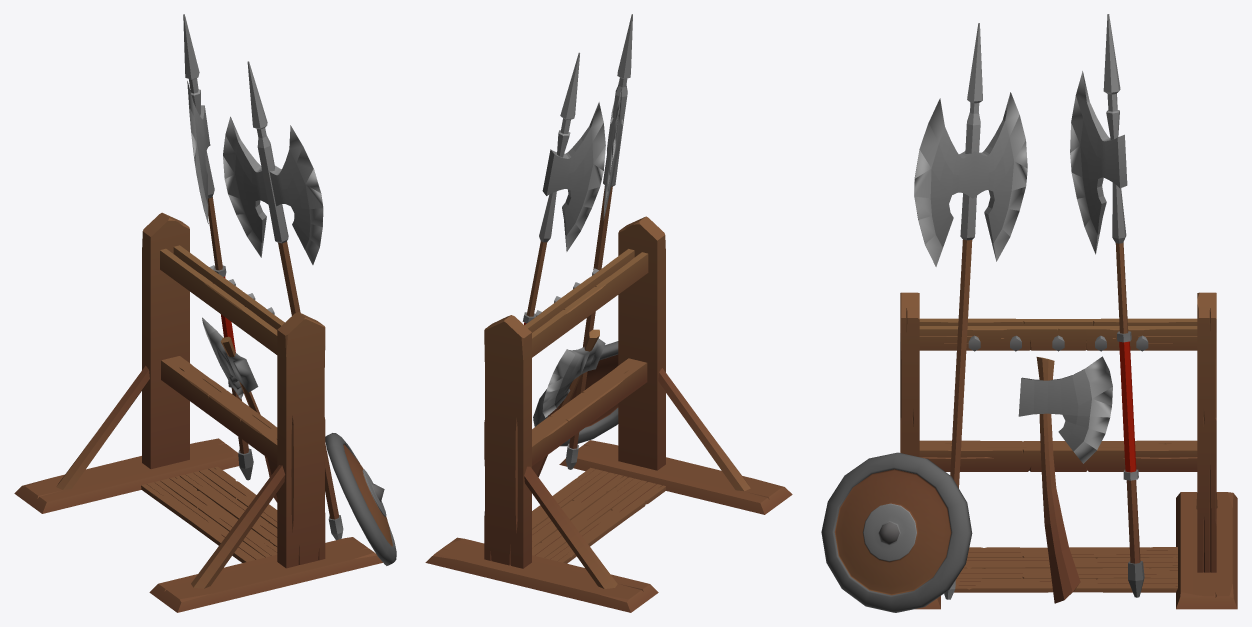
Rendered from obj_stand.002.fbx.
3 renders of one model, left to right at view 1: azimuth 30°, elevation 25°; view 2: azimuth 150°, elevation 25°; view 3: azimuth 270°, elevation 25°, orthographic. The views are drawn at different scales.
Parts seen in each view (by area): view 1: Cube.038; view 2: Cube.038; view 3: Cube.038.
Part boxes in pixels (box(x1,y1,x2,y2)): Cube.038: box(14, 14, 396, 612); Cube.038: box(425, 14, 792, 612); Cube.038: box(821, 14, 1237, 612).
Bounding box in the file's own units: 943 × 1948 × 1350.
